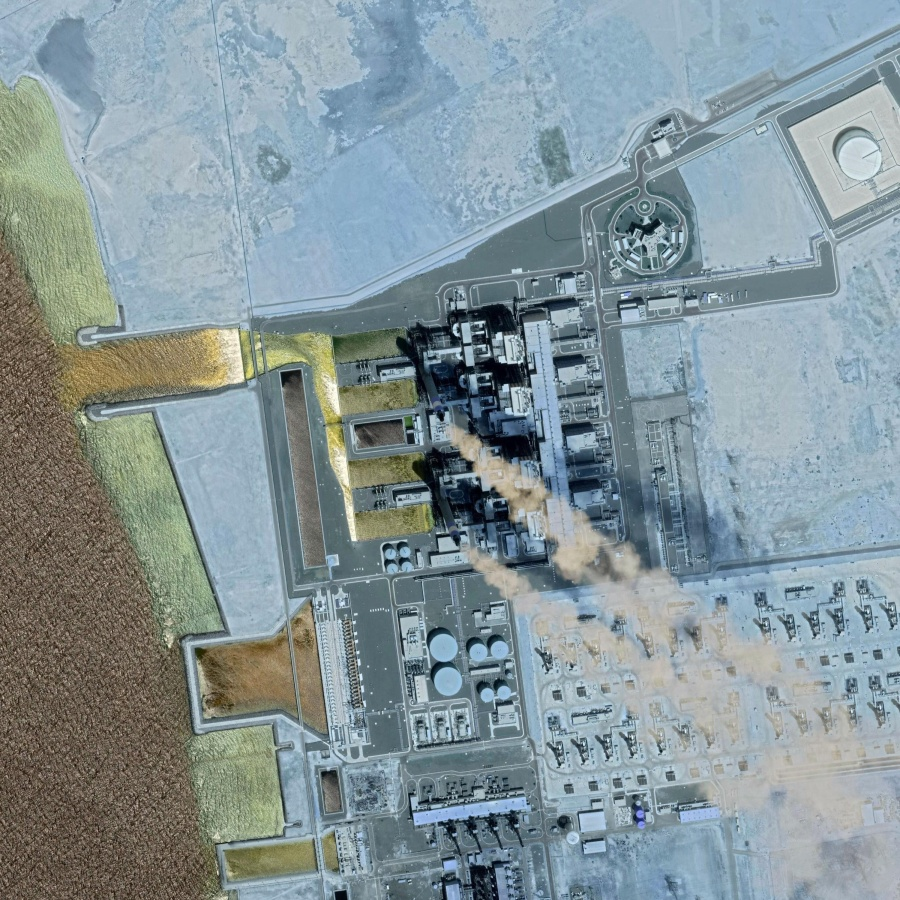PowerPlant: (317, 290, 760, 698)
